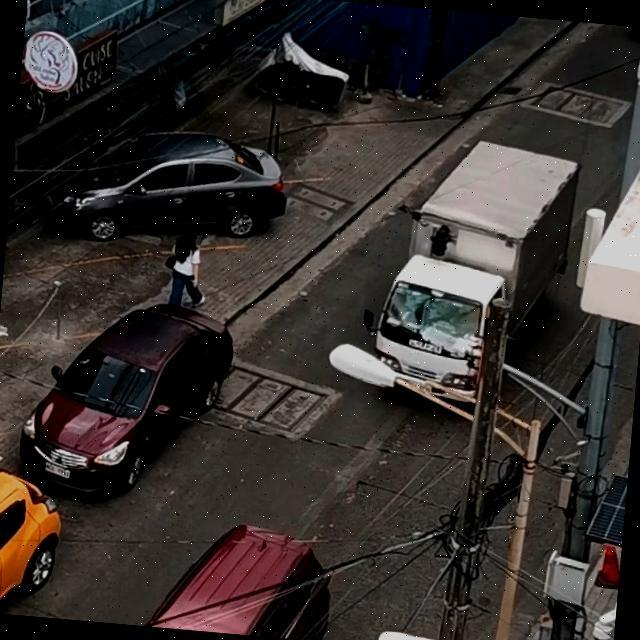Truck: (334, 103, 619, 441)
